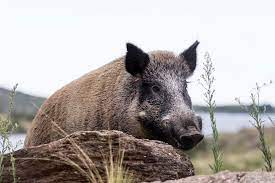boar: (27, 40, 204, 153)
